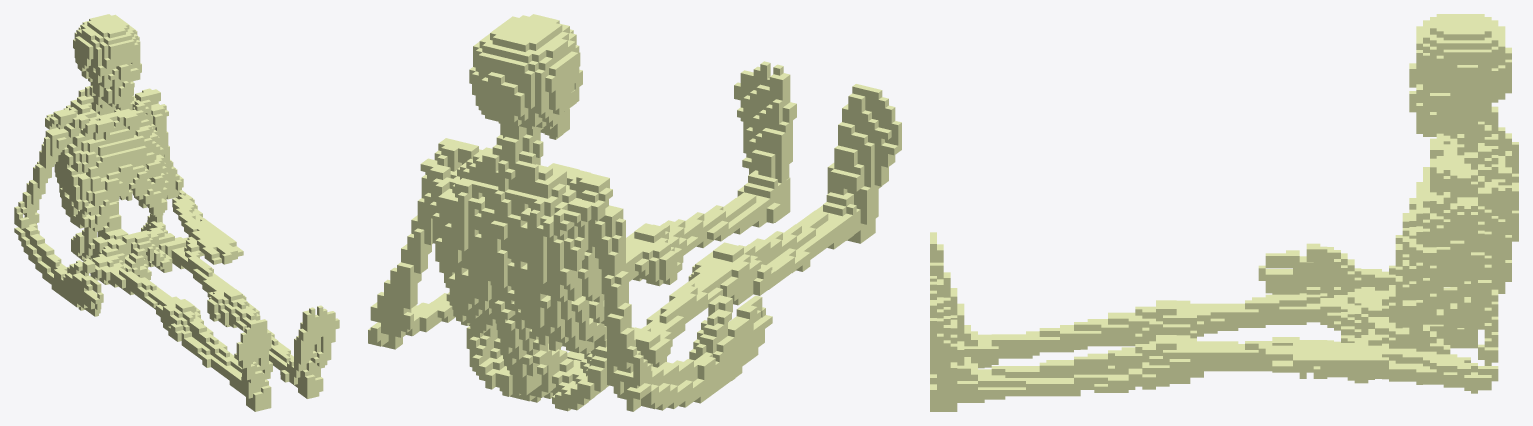
File: skeleton_sitting.obj
The picture shows the model from 3 angles, left to right: view 1: azimuth 30°, elevation 25°; view 2: azimuth 150°, elevation 25°; view 3: azimuth 270°, elevation 25°; orthographic projection. The views are drawn at different scales.
Size of the model in its own units: 42 by 59 by 86.
Materials: 1 (1 with a texture image).
